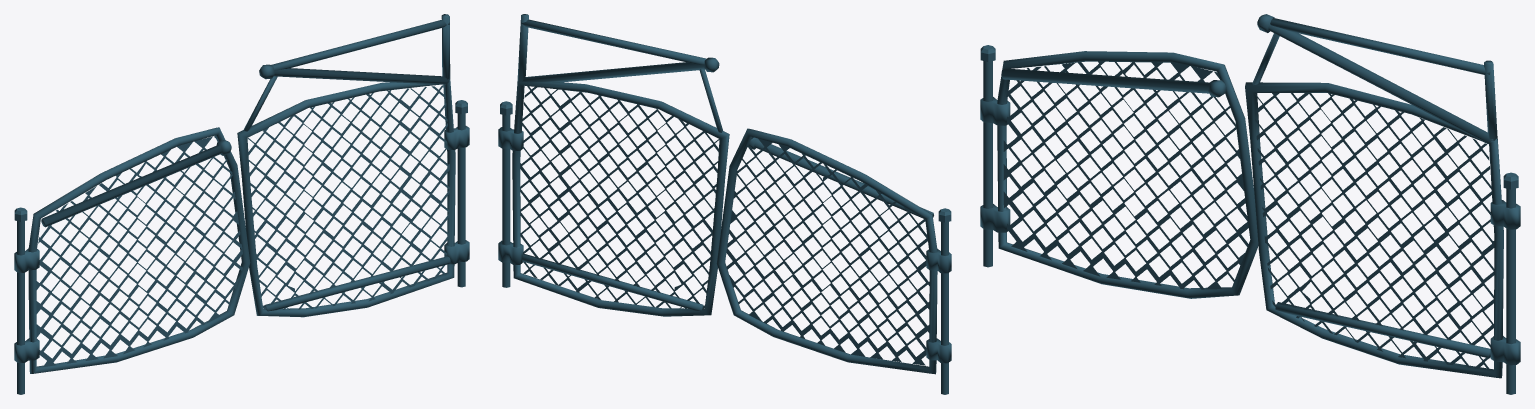
The model's file is ChainLinkedGateDoor.fbx.
3 views of the same model, side by side, from view 1: azimuth 30°, elevation 25°; view 2: azimuth 150°, elevation 25°; view 3: azimuth 330°, elevation 25° (orthographic). The views are drawn at different scales.
Visible parts, largest first — view 1: Gate4, Gate003, Cylinder010, GatePole; view 2: Gate4, Gate003, Cylinder010, GatePole; view 3: Gate4, Gate003, GatePole, Cylinder010.
Boxes of the visible parts, box(x1,y1,x2,y2) form: Gate4: box(237, 14, 469, 317); Gate003: box(14, 127, 250, 373); Cylinder010: box(455, 100, 467, 287); GatePole: box(14, 207, 27, 394); Gate4: box(498, 14, 729, 316); Gate003: box(716, 128, 951, 374); Cylinder010: box(500, 101, 512, 287); GatePole: box(938, 208, 951, 394); Gate4: box(1245, 14, 1520, 378); Gate003: box(980, 51, 1258, 298); GatePole: box(980, 45, 995, 267); Cylinder010: box(1503, 172, 1518, 394).
Bounding box in the file's own units: 394 × 229 × 19.6.
